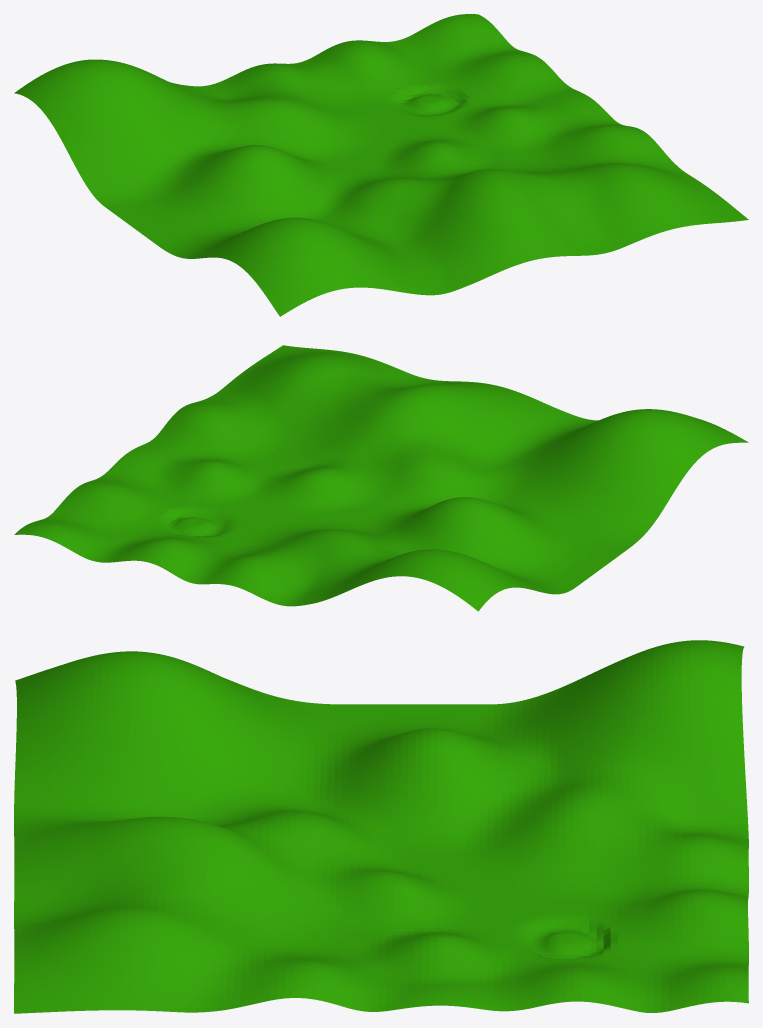
File: DreamSlopewithRiver.fbx
3 views of the same model, one above another, from view 1: azimuth 30°, elevation 25°; view 2: azimuth 150°, elevation 25°; view 3: azimuth 270°, elevation 25° (orthographic). The views are drawn at different scales.
Visible parts, largest first — view 1: DreamSlopewithRiver; view 2: DreamSlopewithRiver; view 3: DreamSlopewithRiver.
Boxes of the visible parts, left/top/right/bottom form: DreamSlopewithRiver: left=14, top=14, right=748, bottom=316; DreamSlopewithRiver: left=14, top=345, right=748, bottom=611; DreamSlopewithRiver: left=14, top=640, right=748, bottom=1013.
Size of the model in its own units: 20008 by 3015 by 19999.
